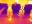Hotspot: (7, 3, 12, 21), (0, 0, 14, 3), (27, 0, 31, 4), (14, 0, 19, 3), (30, 9, 31, 22)
